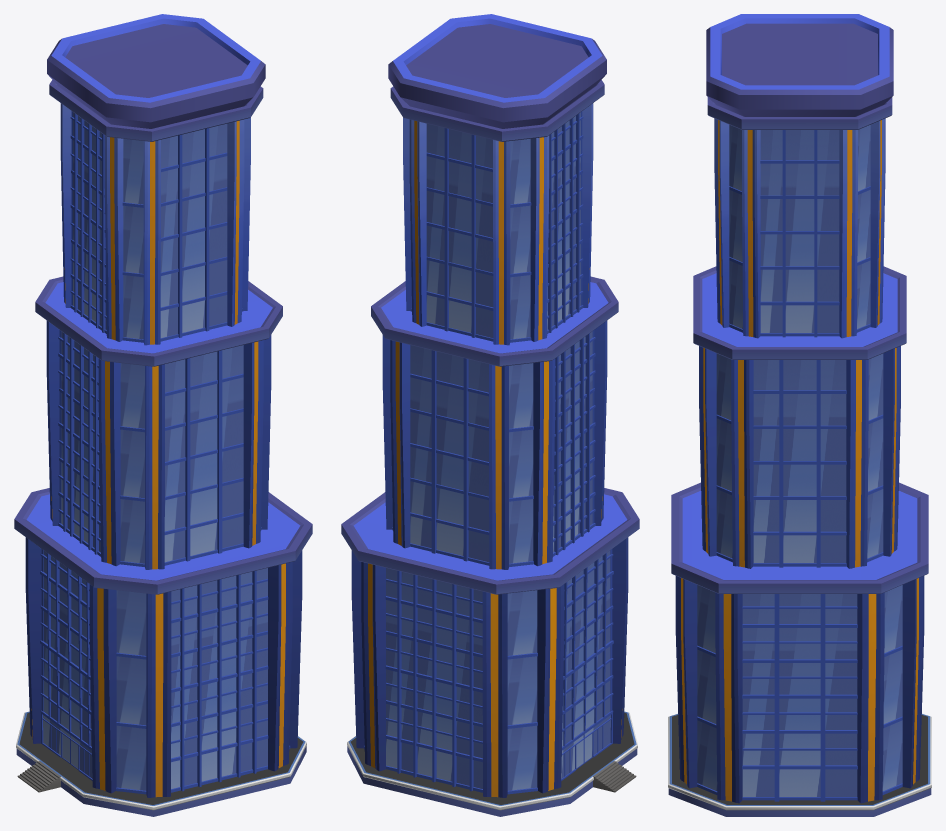
The model's file is Building_7_1_A.fbx.
3 views of the same model, side by side, from view 1: azimuth 30°, elevation 25°; view 2: azimuth 150°, elevation 25°; view 3: azimuth 270°, elevation 25° (orthographic).
Parts seen in each view (by area): view 1: Building_7_1_A; view 2: Building_7_1_A; view 3: Building_7_1_A.
Part boxes in pixels (x1,y1,x2,y2): Building_7_1_A: (14, 14, 312, 816); Building_7_1_A: (341, 14, 639, 816); Building_7_1_A: (668, 14, 931, 816).
Bounding box in the file's own units: 2520 × 6846 × 2311.
